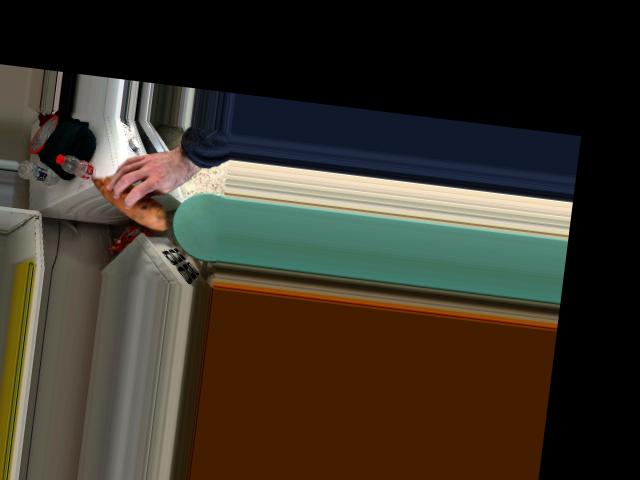sweet_potato: (92, 162, 160, 227)
